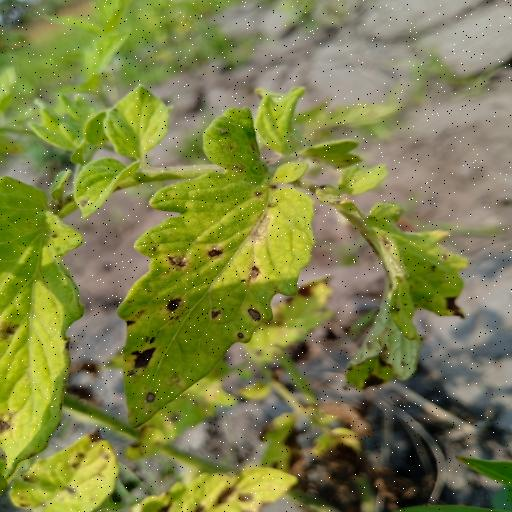Tomato_Brown_Spots: (117, 104, 321, 434), (338, 200, 474, 395), (0, 168, 80, 482), (3, 424, 119, 512)
